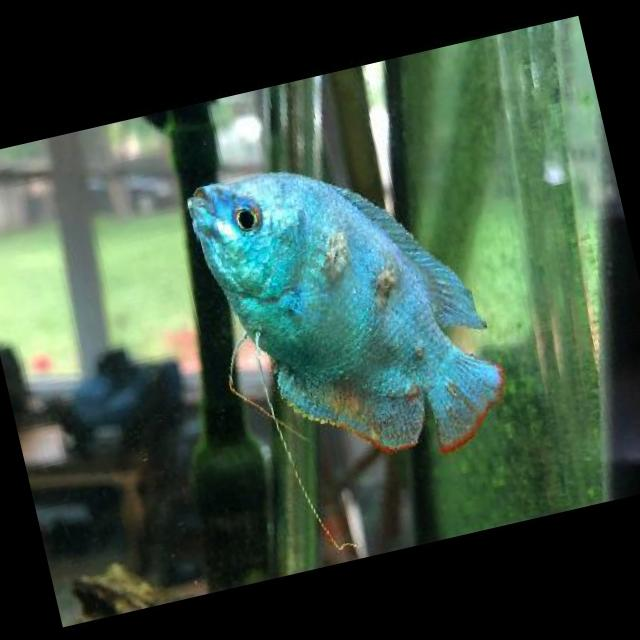Gourami: (178, 122, 520, 496)
